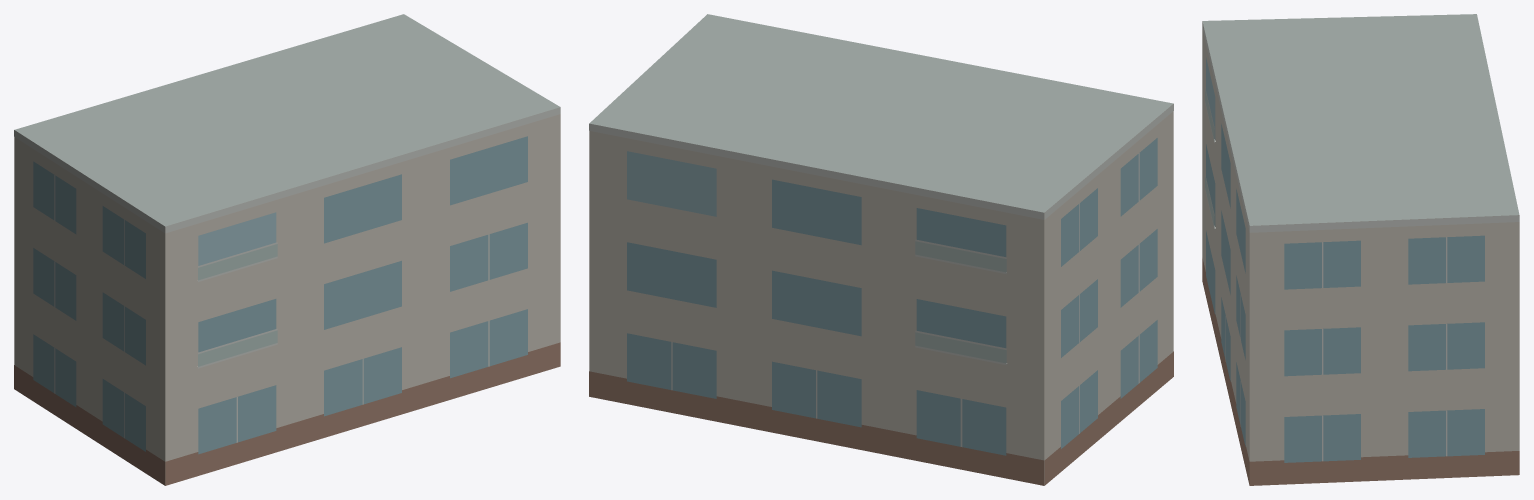
Rendered from survey-upis-32561508.glb.
3 views of the same model, side by side, from view 1: azimuth 30°, elevation 25°; view 2: azimuth 150°, elevation 25°; view 3: azimuth 270°, elevation 25° (orthographic). The views are drawn at different scales.
Parts seen in each view (by area): view 1: survey-upis-32561508.tmp; view 2: survey-upis-32561508.tmp; view 3: survey-upis-32561508.tmp.
Part boxes in pixels (box(x1,y1,x2,y2)): survey-upis-32561508.tmp: box(14, 14, 560, 485); survey-upis-32561508.tmp: box(589, 14, 1173, 485); survey-upis-32561508.tmp: box(1202, 14, 1519, 485).
Bounding box in the file's own units: 16 × 9.15 × 10.13.
